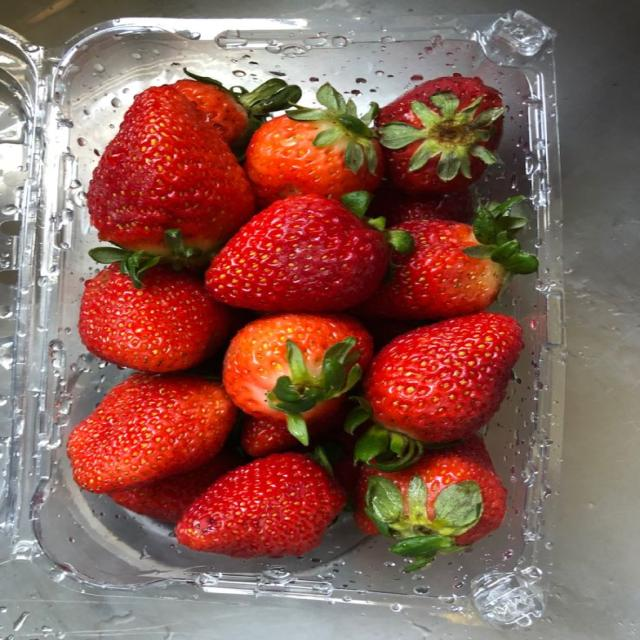strawberry: (87, 86, 253, 255), (356, 312, 522, 462), (207, 195, 412, 312), (359, 197, 537, 320), (355, 435, 506, 570), (67, 374, 236, 492), (223, 314, 372, 444), (176, 453, 345, 557), (245, 84, 383, 205), (79, 265, 229, 372), (376, 74, 505, 193), (172, 69, 301, 151), (108, 449, 243, 523), (172, 79, 248, 145), (368, 184, 473, 227), (360, 316, 428, 352), (241, 416, 300, 457)
